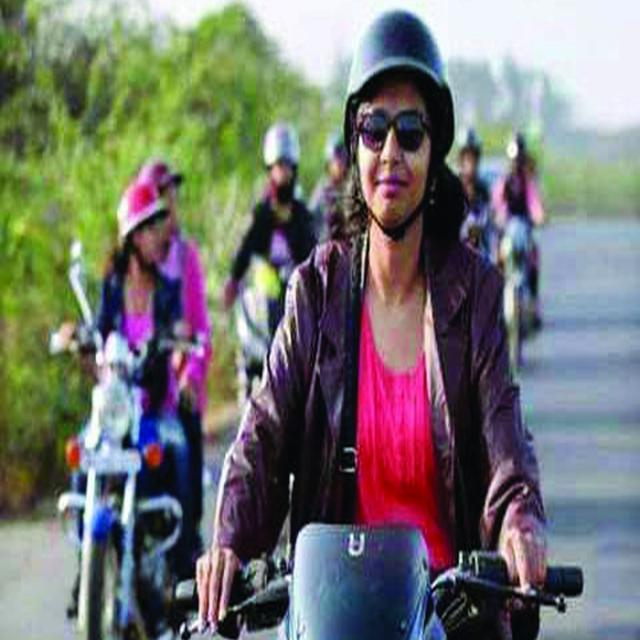helmet: (345, 11, 454, 159), (117, 179, 167, 238), (263, 122, 300, 166), (139, 159, 183, 190)
